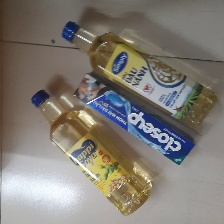CloseUp Tuyet: (71, 72, 196, 167)
Happy Soya: (30, 89, 154, 215)
Simply: (59, 20, 218, 128)
